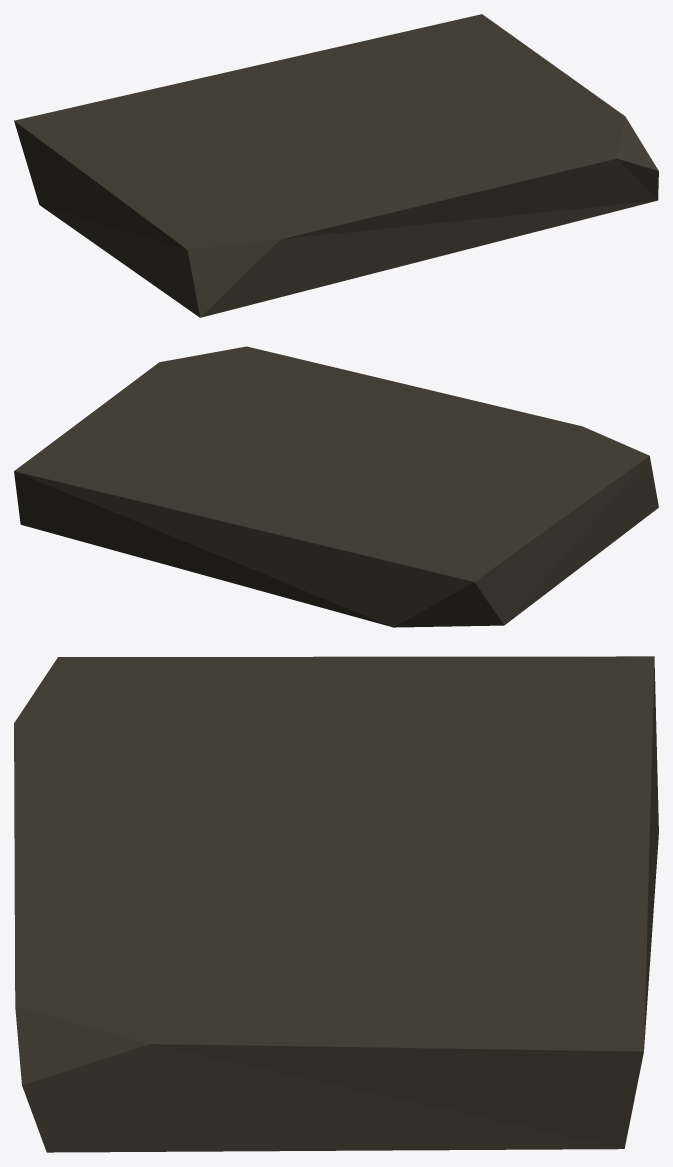
Rendered from Stairs_Single_1_LOD_1.fbx.
3 renders of one model, top to bottom at view 1: azimuth 30°, elevation 25°; view 2: azimuth 150°, elevation 25°; view 3: azimuth 270°, elevation 25°, orthographic. The views are drawn at different scales.
Visible parts, largest first — view 1: Group38239; view 2: Group38239; view 3: Group38239.
Part boxes in pixels (x1,y1,x2,y2): Group38239: (14,14,658,317); Group38239: (14,346,658,627); Group38239: (14,656,658,1152).
Size of the model in its own units: 3.22 by 0.4222 by 2.25.
